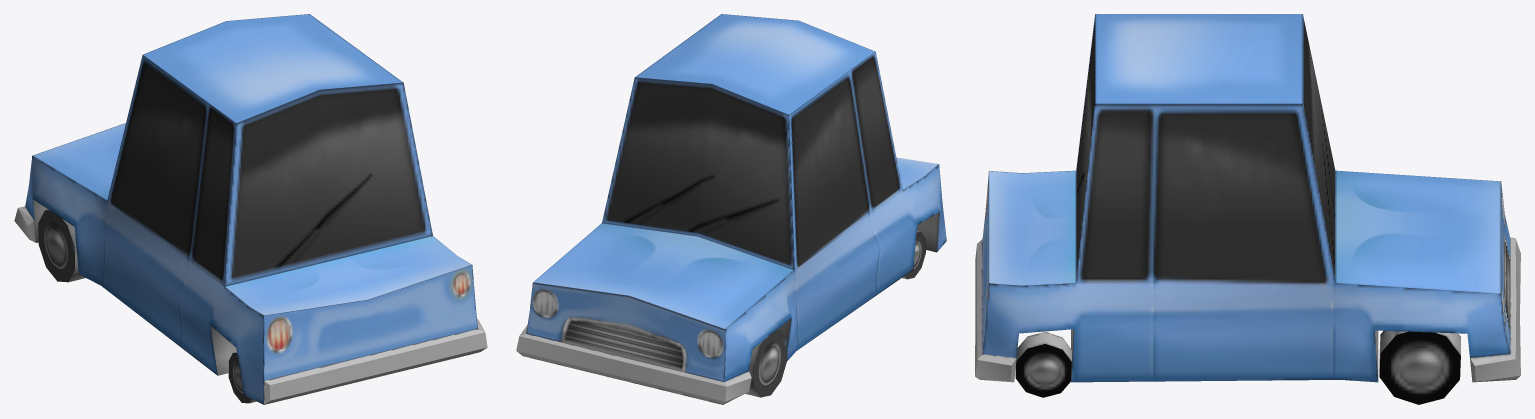
The model's file is car_02.FBX.
The picture shows the model from 3 angles, left to right: view 1: azimuth 30°, elevation 25°; view 2: azimuth 150°, elevation 25°; view 3: azimuth 270°, elevation 25°; orthographic projection. The views are drawn at different scales.
Parts seen in each view (by area): view 1: Box063; view 2: Box063; view 3: Box063.
Part boxes in pixels (left/top/right/bottom): Box063: left=14, top=14, right=487, bottom=404; Box063: left=516, top=14, right=946, bottom=404; Box063: left=975, top=14, right=1520, bottom=404.
Bounding box in the file's own units: 23.47 × 25.13 × 41.51.
